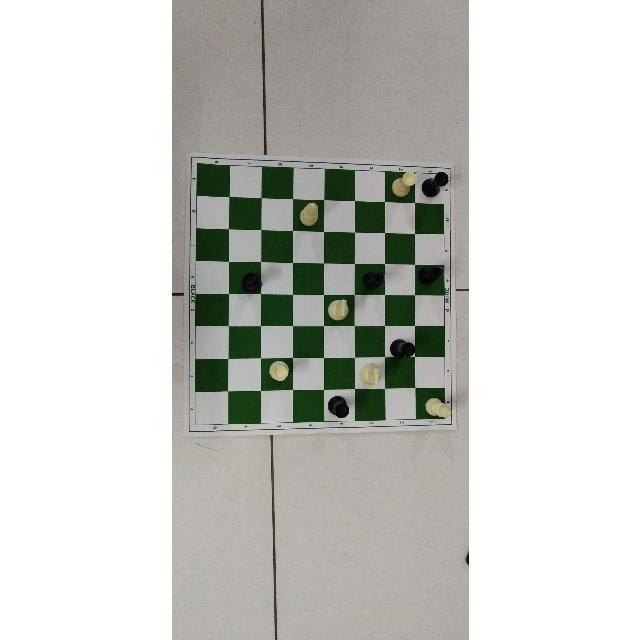black-bishop: (417, 264, 443, 286), (362, 269, 385, 291)
black-rook: (419, 170, 448, 198), (325, 396, 350, 420), (388, 338, 413, 358), (240, 274, 262, 294)
white-bishop: (423, 397, 450, 419), (297, 201, 319, 226)
white-knight: (359, 363, 382, 386), (327, 297, 349, 320)
white-rook: (391, 171, 417, 196), (268, 360, 290, 383)
